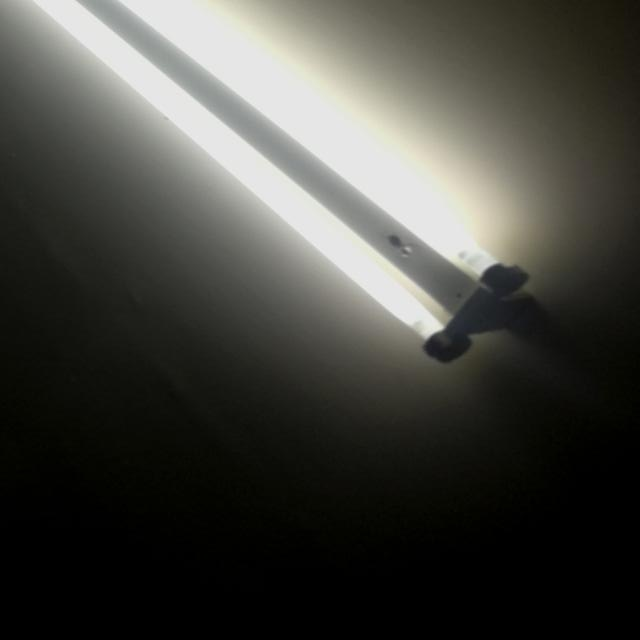fluorescent tube: (0, 0, 541, 371)
